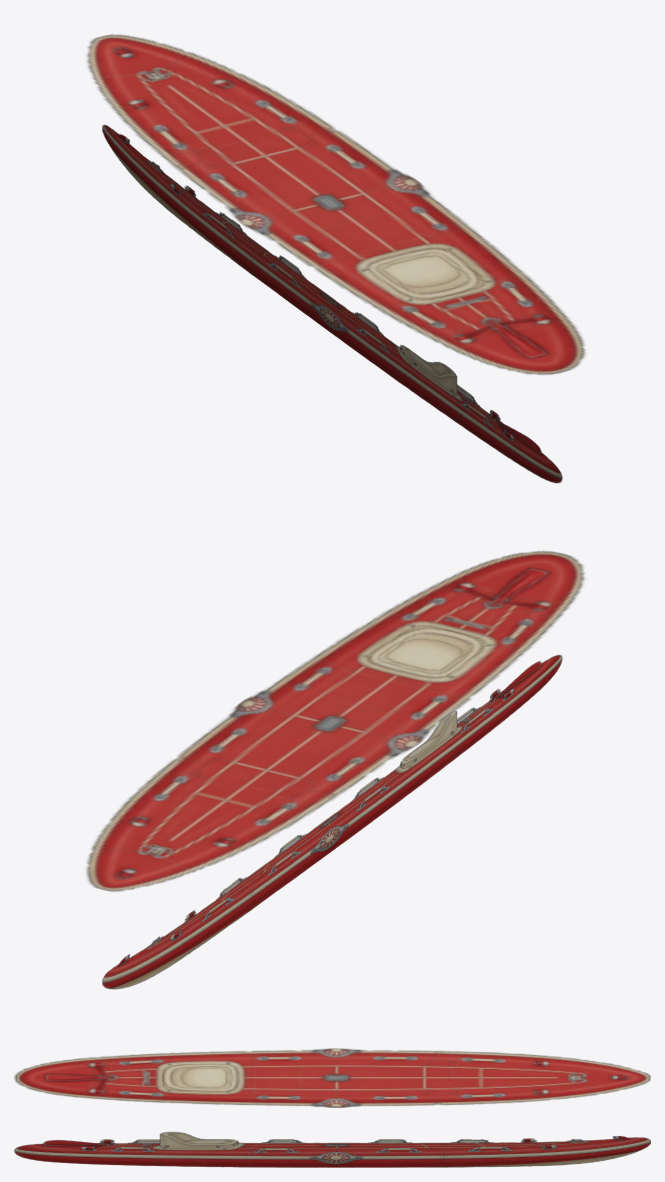
File: rescue_board.glb
The picture shows the model from 3 angles, top to bottom: view 1: azimuth 30°, elevation 25°; view 2: azimuth 150°, elevation 25°; view 3: azimuth 270°, elevation 25°; orthographic projection. The views are drawn at different scales.
Parts seen in each view (by area): view 1: rescue_board; view 2: rescue_board; view 3: rescue_board.
Part boxes in pixels (x1,y1,x2,y2): rescue_board: (86, 34, 586, 483); rescue_board: (85, 550, 585, 989); rescue_board: (14, 1048, 650, 1167).
Bounding box in the file's own units: 0.709 × 0.5067 × 3.2.
1 material, 1 textured.
